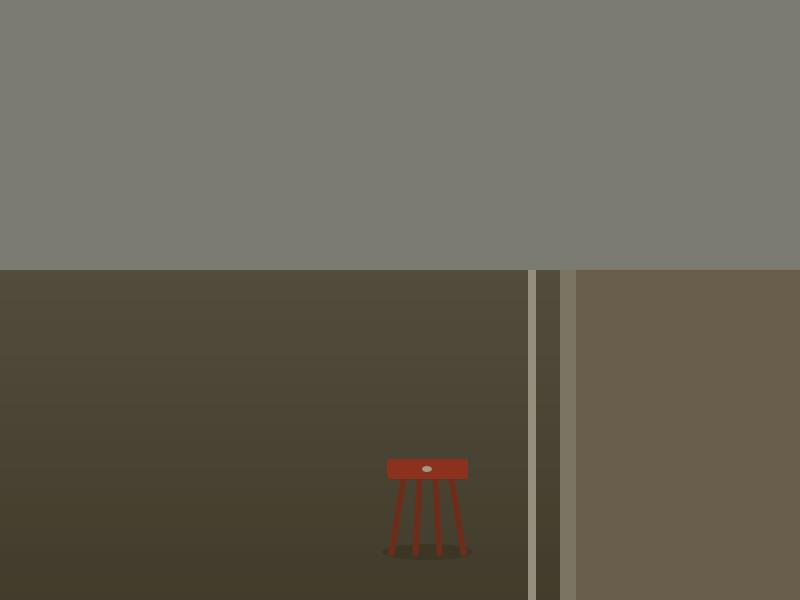ROAD_OBSTACLE: (387, 459, 468, 552)
